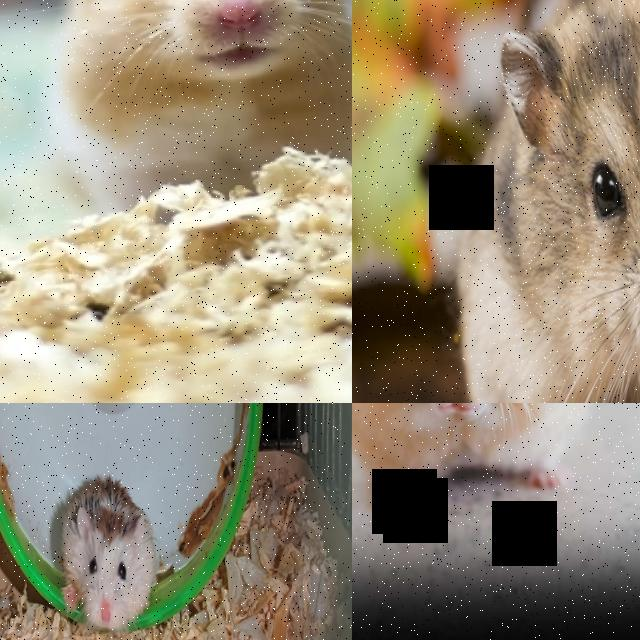hamster: (444, 0, 640, 403), (25, 0, 352, 214), (352, 403, 599, 514), (52, 472, 160, 632)
